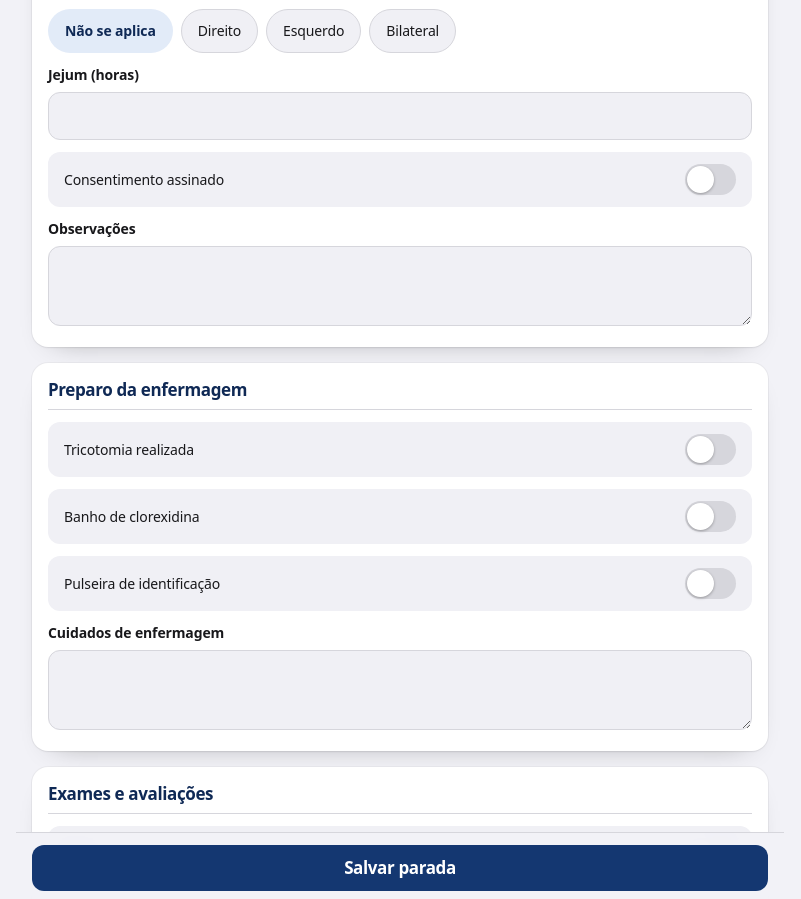
Ficha cirúrgica › o local da tricotomia só é pedido depois do sim
The width and height of the screenshot is (801, 899).
(page scrolled)
Expected: the field labelled "Local da tricotomia" is not shown
Click the checkbox labelled "Tricotomia realizada": (129, 449) [48,422,752,476]
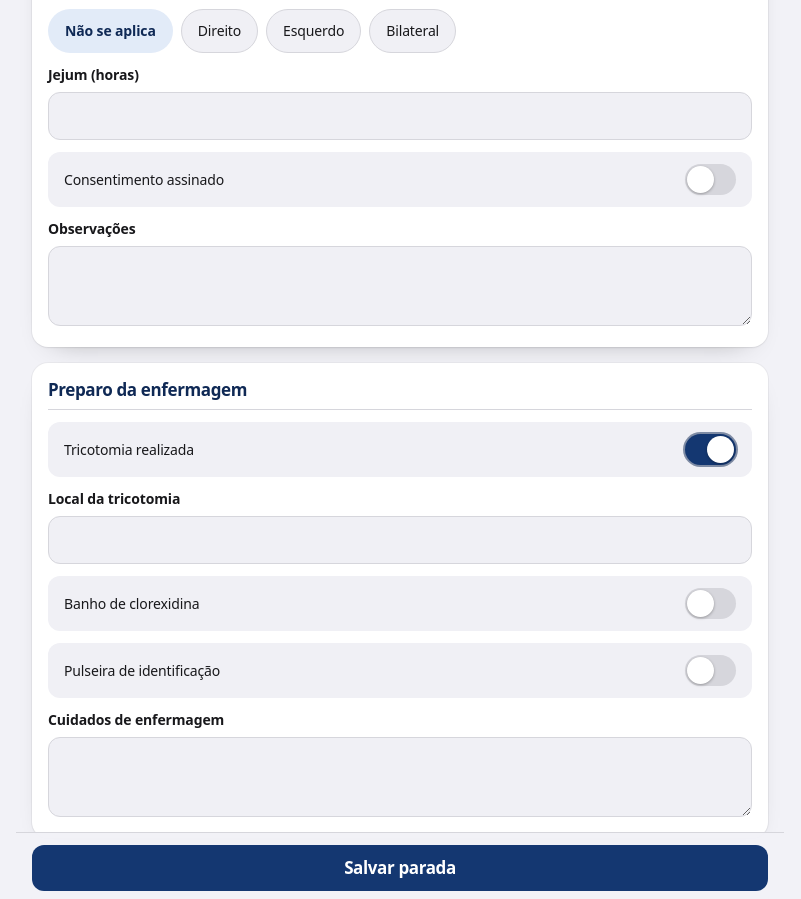
Now the field labelled "Local da tricotomia" is shown, box [48,516,752,564]
